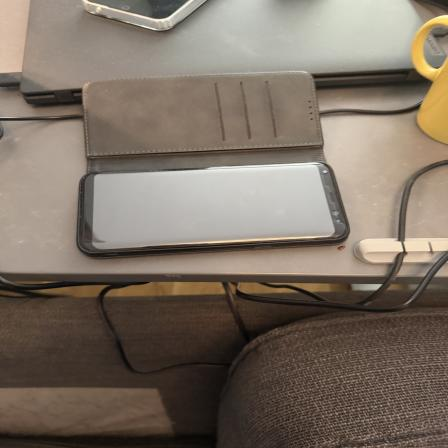phone: (74, 77, 355, 254), (80, 0, 208, 30)
yellow_cup: (402, 17, 448, 142)
